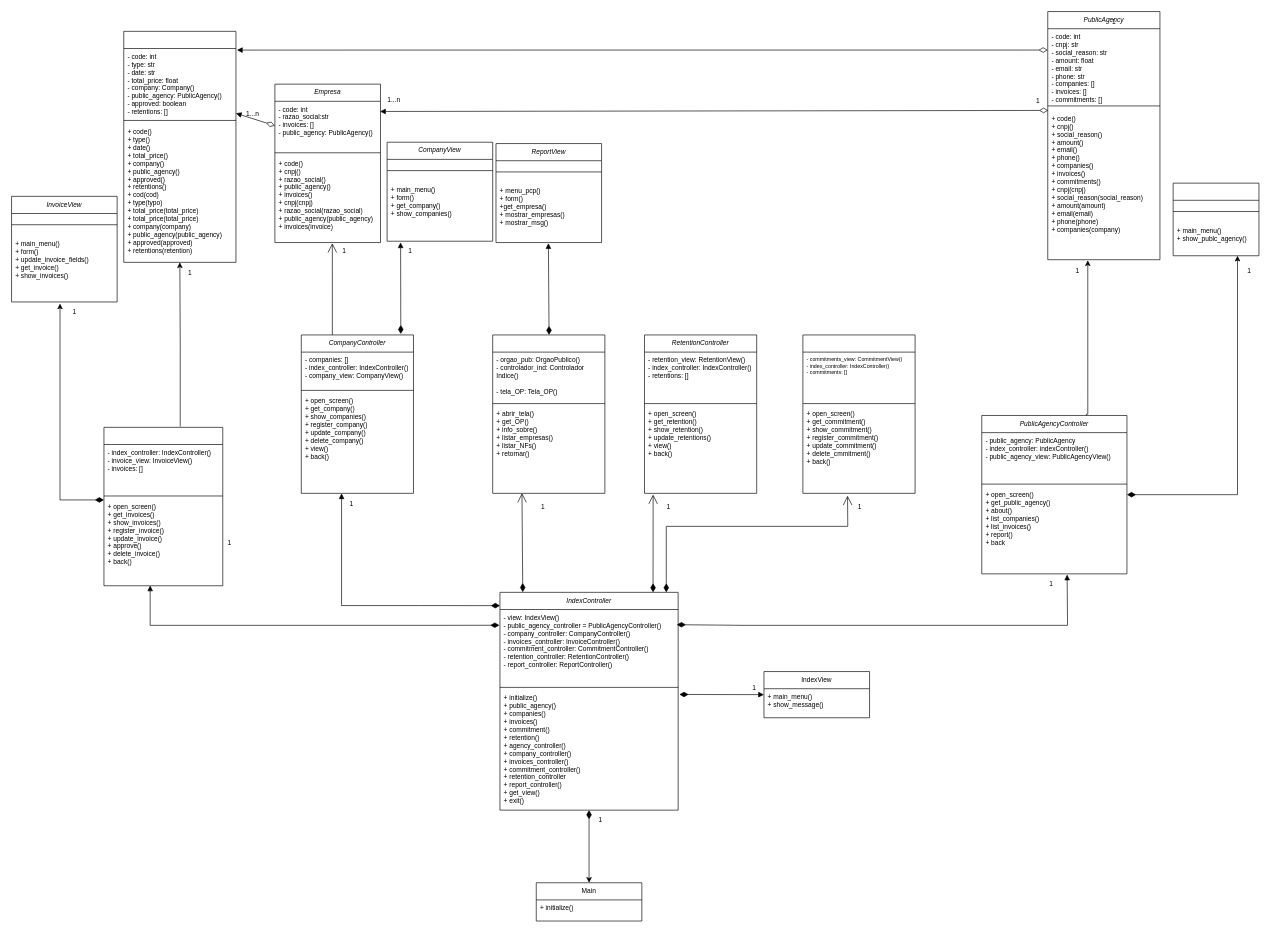
Image size: 1271x933. Some labels were removed from this diagram. The shapes that lost their labels are listed below. From the top down, each one's box as (x1, y1, x2, y2) in pixels, then its label:
(123, 31, 236, 262): NotaFiscal
(1172, 182, 1259, 256): PublicAgencyView
(492, 334, 605, 493): ReportController
(802, 334, 915, 493): CommitmentController
(103, 427, 223, 586): InvoiceController
